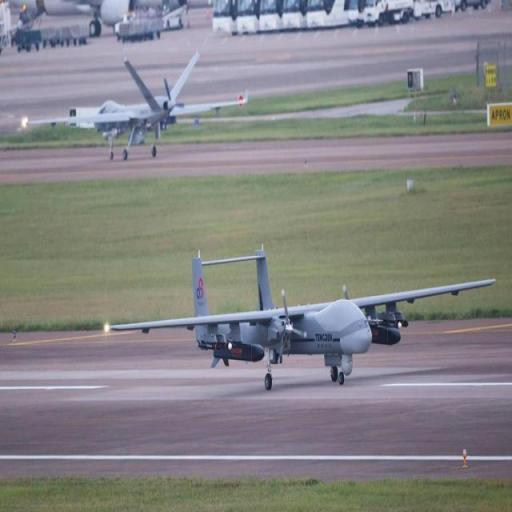uav: (96, 235, 500, 392)
